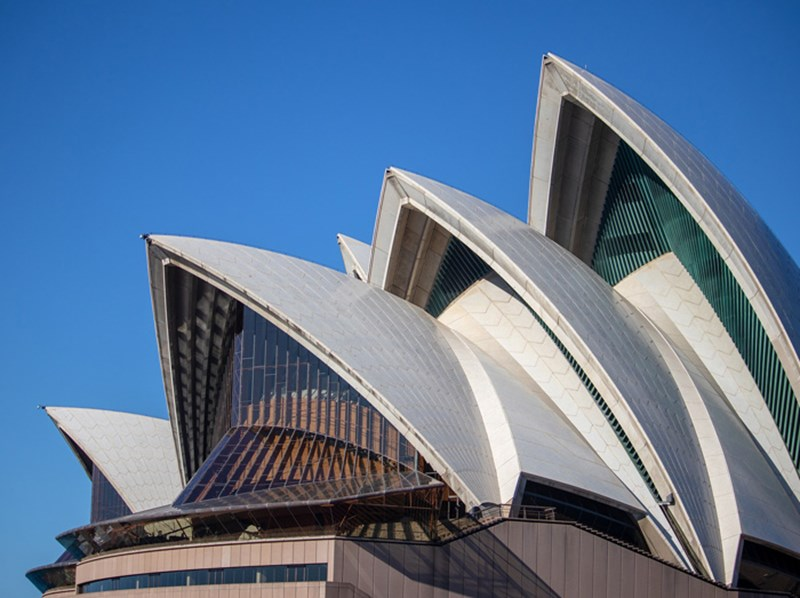opera house: (8, 26, 800, 561)
